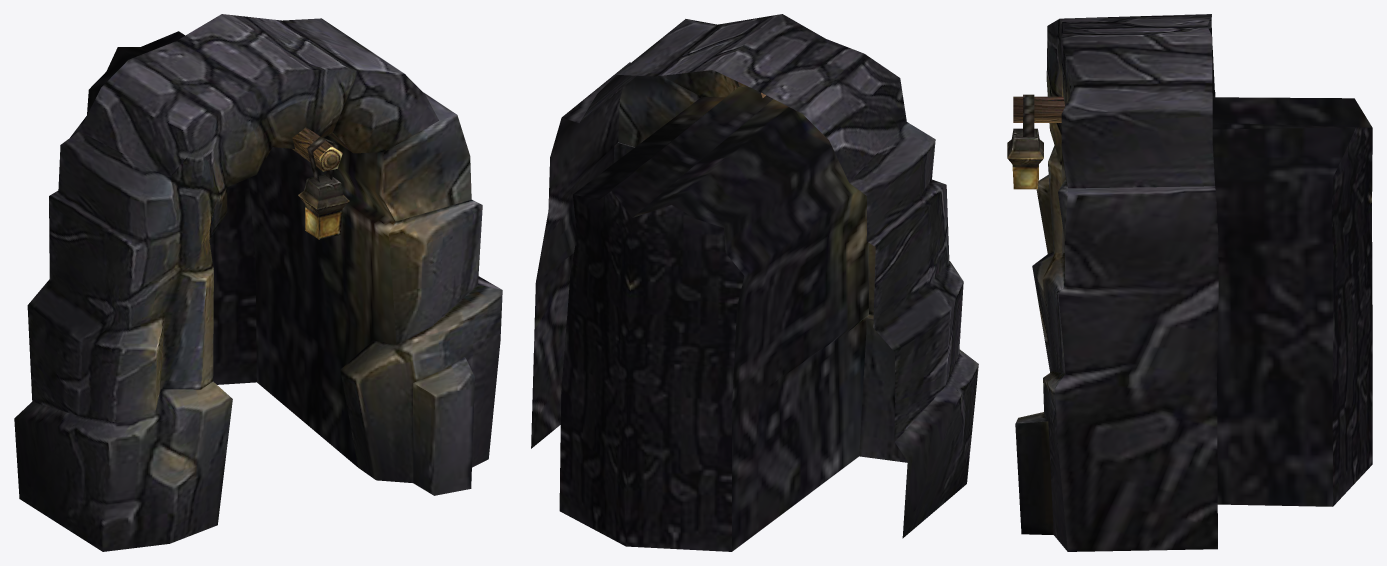
Rendered from Treasure_Wall_03.FBX.
3 views of the same model, side by side, from view 1: azimuth 30°, elevation 25°; view 2: azimuth 150°, elevation 25°; view 3: azimuth 270°, elevation 25° (orthographic). The views are drawn at different scales.
Visible parts, largest first — view 1: Treasure_Wall_03; view 2: Treasure_Wall_03; view 3: Treasure_Wall_03.
Boxes of the visible parts, <box> form: Treasure_Wall_03: <box>14,14,502,551</box>; Treasure_Wall_03: <box>531,14,978,551</box>; Treasure_Wall_03: <box>1007,14,1372,551</box>.
Size of the model in its own units: 12.94 by 13.34 by 10.35.
